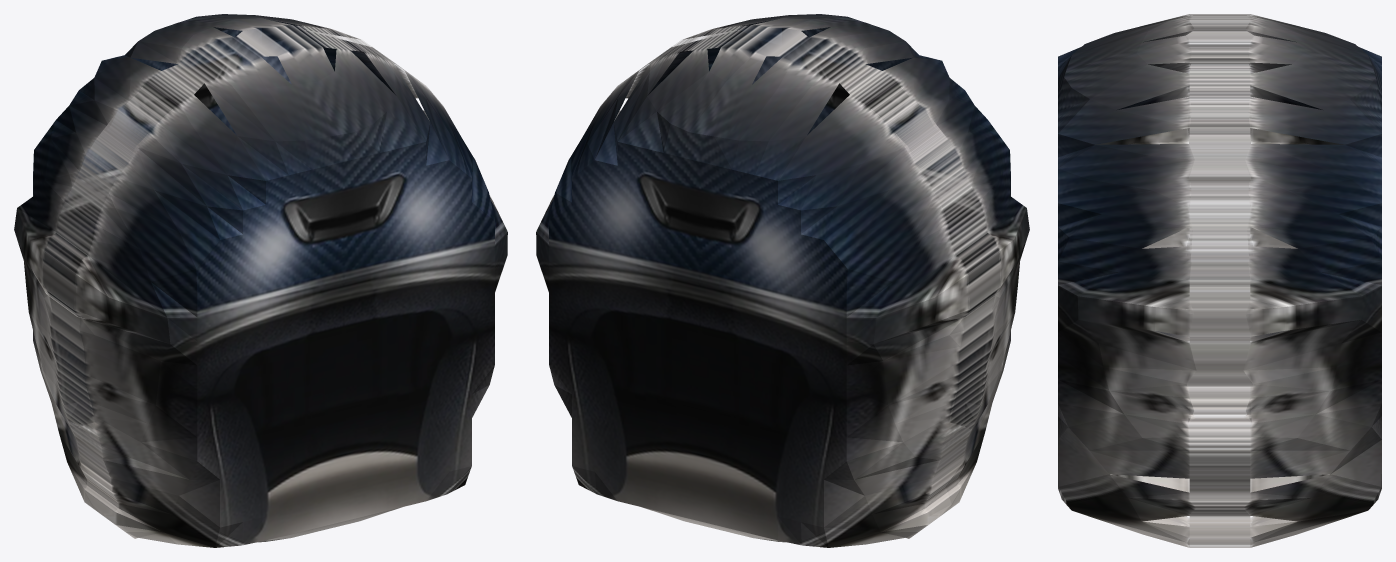
Rendered from sw-motech-nomad-open-face-helmet-069.glb.
The picture shows the model from 3 angles, left to right: view 1: azimuth 30°, elevation 25°; view 2: azimuth 150°, elevation 25°; view 3: azimuth 270°, elevation 25°; orthographic projection.
Visible parts, largest first — view 1: world; view 2: world; view 3: world.
Part boxes in pixels (x1=…): world: x1=14, y1=14, x2=507, y2=547; world: x1=536, y1=14, x2=1029, y2=547; world: x1=1058, y1=14, x2=1381, y2=547.
Bounding box in the file's own units: 0.9141 × 1 × 0.64.
Materials: 1 (1 with a texture image).
